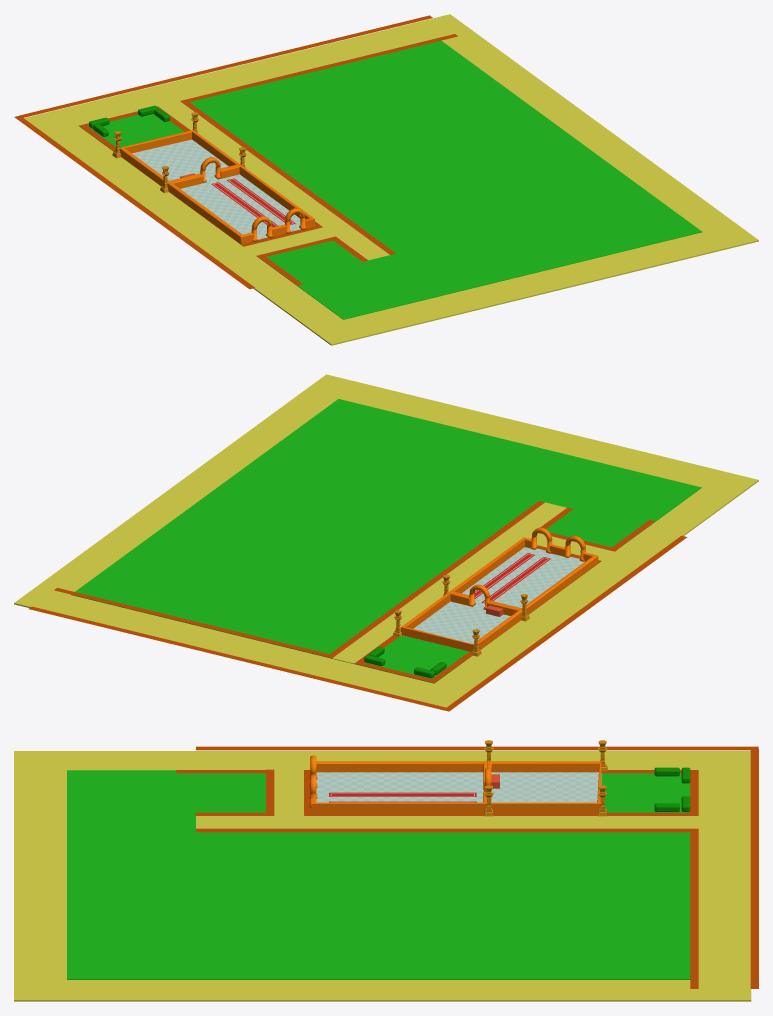
File: bhandara_Area_low4.glb
3 views of the same model, one above another, from view 1: azimuth 30°, elevation 25°; view 2: azimuth 150°, elevation 25°; view 3: azimuth 270°, elevation 25° (orthographic). The views are drawn at different scales.
Parts seen in each view (by area): view 1: pCube17, pCube69, pCube24, Plane, pCube30, pCube31, Plane.009, Plane.008, Plane.003, Plane.010, Plane.005; view 2: pCube17, pCube69, pCube24, Plane, pCube31, pCube30, Plane.009, Plane.008, Plane.003, Plane.010, Plane.005; view 3: pCube17, pCube69, pCube24, Plane, pCube30, Plane.008, pCube31, Plane.003, Plane.009, Plane.005, Plane.010, Plane.002 (+1 smaller).
Part boxes in pixels (x1,y1,x2,y2): pCube17: (79,40,702,319); pCube69: (24,14,758,345); pCube24: (132,139,300,239); Plane: (158,101,389,260); pCube30: (167,165,314,244); pCube31: (119,130,240,186); Plane.009: (19,15,432,117); Plane.008: (14,115,254,289); Plane.003: (180,99,395,254); Plane.010: (186,34,457,101); Plane.005: (244,227,335,255); pCube17: (71,399,701,683); pCube69: (14,374,758,707); pCube24: (403,547,584,651); Plane: (332,502,566,663); pCube31: (401,592,522,651); pCube30: (449,537,598,614); Plane.009: (29,606,446,710); Plane.008: (443,535,687,711); Plane.003: (326,501,544,657); Plane.010: (54,588,329,656); Plane.005: (526,533,614,560); pCube17: (67,770,690,979); pCube69: (14,751,751,1001); pCube24: (316,772,601,802); Plane: (196,816,698,828); pCube30: (311,761,487,812); Plane.008: (196,746,758,750); pCube31: (487,761,601,812); Plane.003: (196,828,698,832); Plane.009: (750,749,758,988); Plane.005: (274,769,304,816); Plane.010: (690,832,698,988); Plane.002: (304,812,698,815).
Size of the model in its own units: 4.66 by 0.2546 by 5.81.
Materials: 9 (2 with a texture image).
